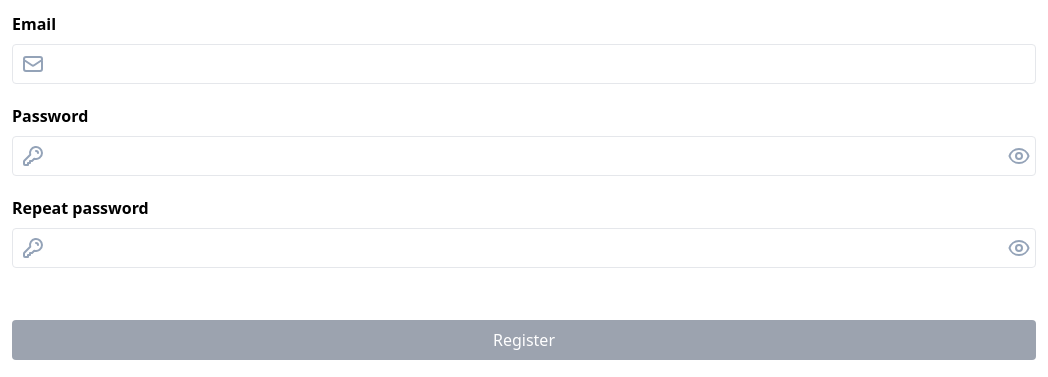
it: Register form component › All fields filled with valid inputs
Type "mail@mail.com" into the field labelled "Email" at (544, 64), box [53,52,1035,76]
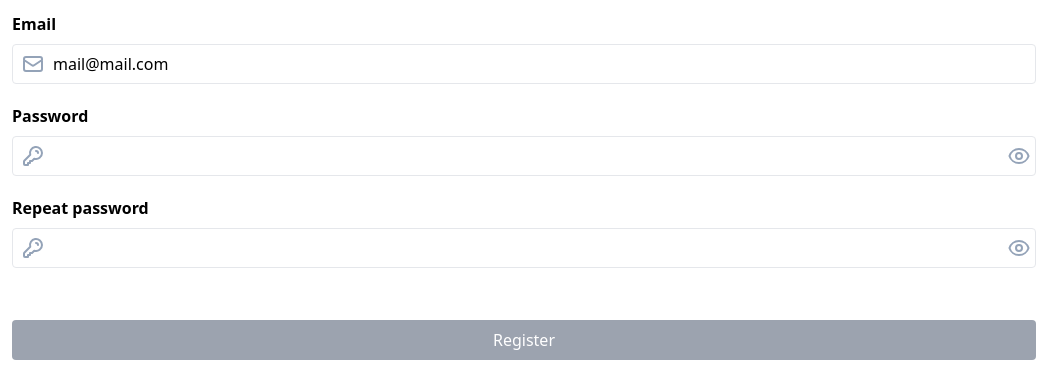
Type "password" into the password field labelled "Password" at (530, 156), box [53,144,1007,168]
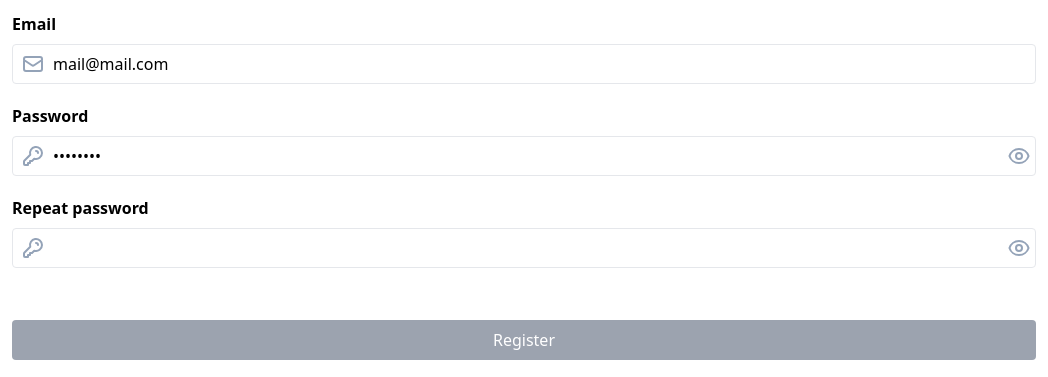
Type "password" into the password field labelled "Repeat password" at (530, 248), box [53,236,1007,260]
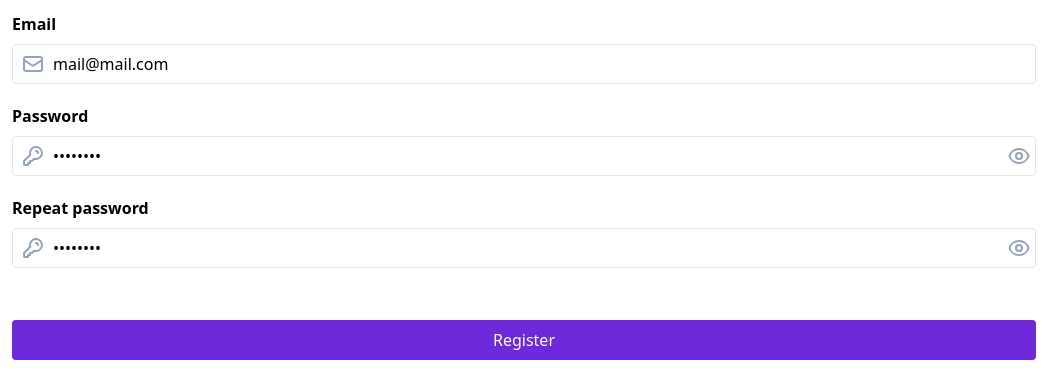
expect the button "Register" is enabled: met, box [12,320,1036,360]
